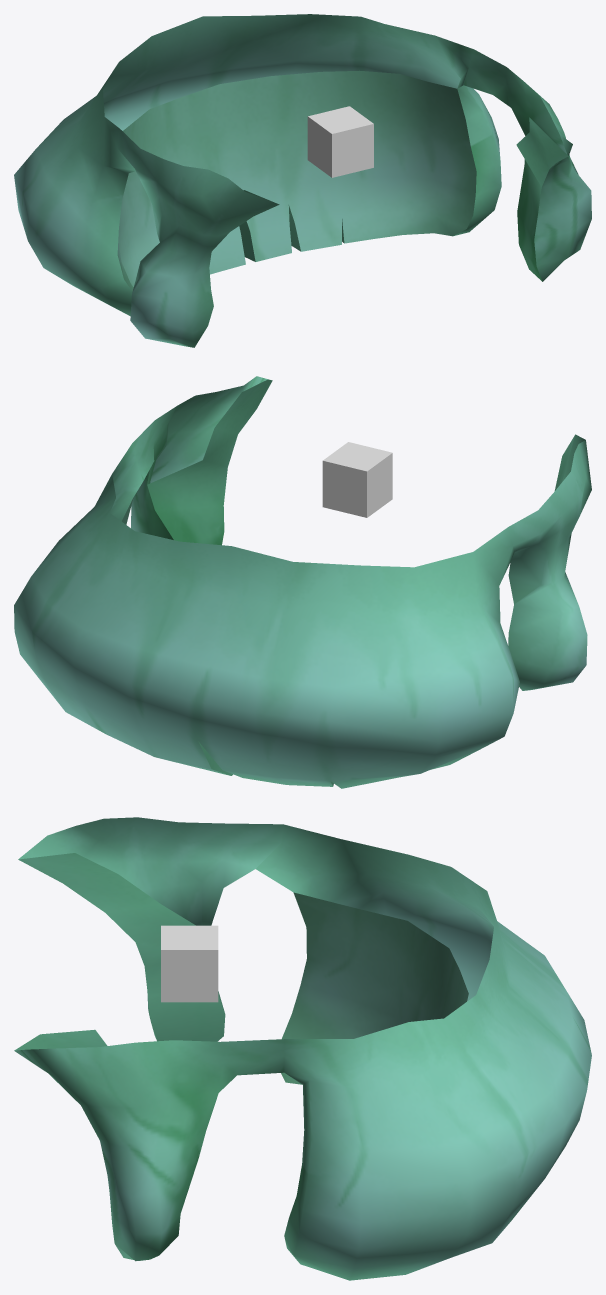
File: girl_hair3.FBX
3 views of the same model, one above another, from view 1: azimuth 30°, elevation 25°; view 2: azimuth 150°, elevation 25°; view 3: azimuth 270°, elevation 25° (orthographic). The views are drawn at different scales.
Visible parts, largest first — view 1: girl_hair11, faceSpawn; view 2: girl_hair11, faceSpawn; view 3: girl_hair11, faceSpawn.
Part boxes in pixels (box(x1,y1,x2,y2)): girl_hair11: box(14, 14, 591, 347); faceSpawn: box(307, 106, 373, 177); girl_hair11: box(14, 376, 591, 788); faceSpawn: box(322, 442, 392, 517); girl_hair11: box(14, 817, 591, 1280); faceSpawn: box(161, 925, 218, 1002).
Size of the model in its own units: 54.83 by 26.21 by 50.14.
Materials: 1 (1 with a texture image).
